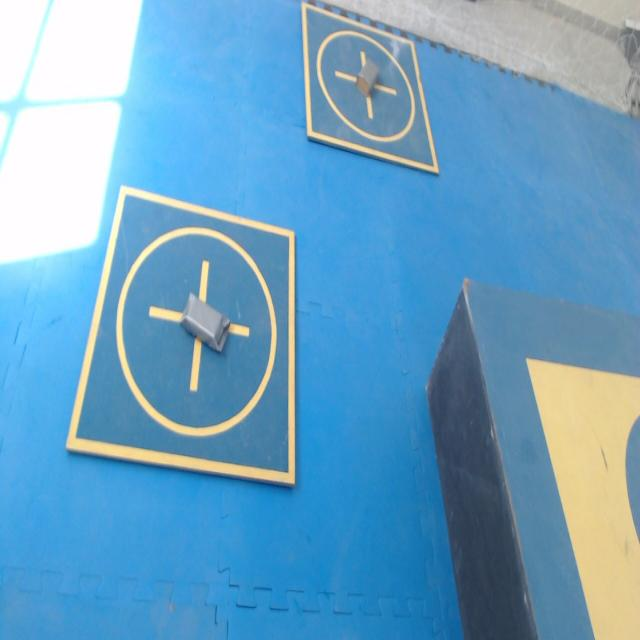direita: (356, 52, 378, 96)
esquerda: (180, 293, 230, 351)
